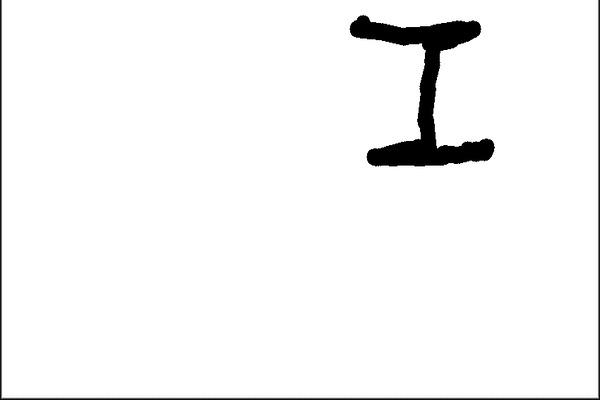i: (334, 2, 519, 183)
